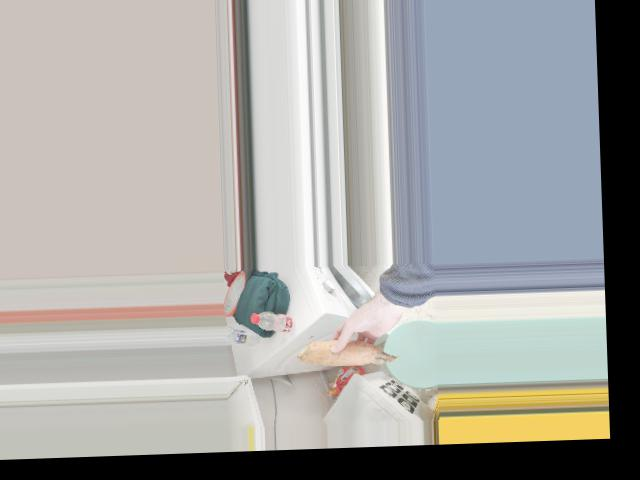sweet_potato: (304, 332, 399, 369)
